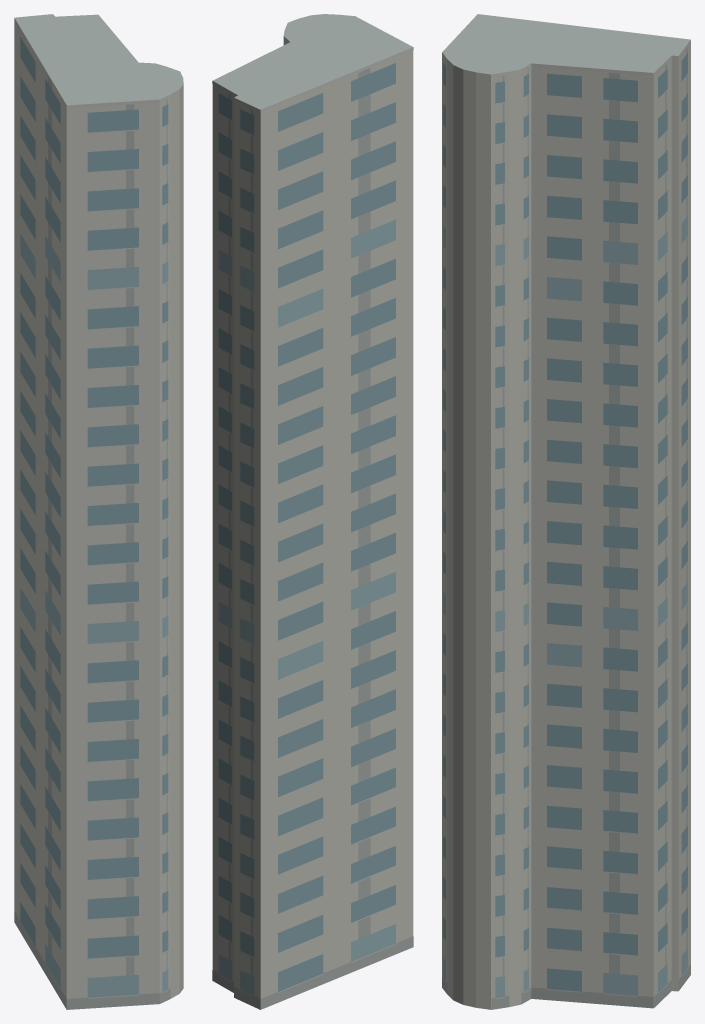
Rendered from survey-upis-32777271.glb.
3 views of the same model, side by side, from view 1: azimuth 30°, elevation 25°; view 2: azimuth 150°, elevation 25°; view 3: azimuth 270°, elevation 25° (orthographic). The views are drawn at different scales.
Visible parts, largest first — view 1: survey-upis-32777271.tmp; view 2: survey-upis-32777271.tmp; view 3: survey-upis-32777271.tmp.
Boxes of the visible parts, <box> form: survey-upis-32777271.tmp: <box>14,14,183,1009</box>; survey-upis-32777271.tmp: <box>212,14,413,1009</box>; survey-upis-32777271.tmp: <box>442,14,690,1009</box>.
Bounding box in the file's own units: 9.74 × 70.15 × 16.92.
